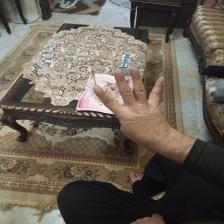four: (88, 64, 180, 150)
